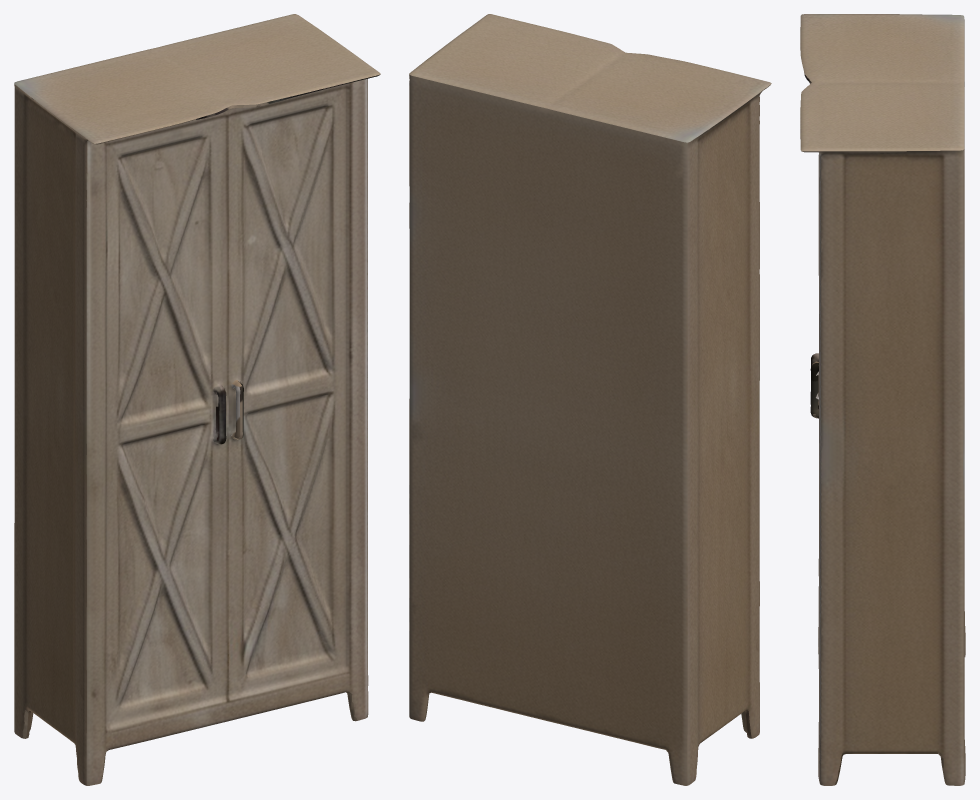
File: wardrobe__wardrobe#3.glb
3 views of the same model, side by side, from view 1: azimuth 30°, elevation 25°; view 2: azimuth 150°, elevation 25°; view 3: azimuth 270°, elevation 25° (orthographic). The views are drawn at different scales.
Parts seen in each view (by area): view 1: tmpmd7zc7rg.ply; view 2: tmpmd7zc7rg.ply; view 3: tmpmd7zc7rg.ply.
Part boxes in pixels (box(x1,y1,x2,y2)): tmpmd7zc7rg.ply: box(14, 14, 380, 785); tmpmd7zc7rg.ply: box(409, 14, 771, 785); tmpmd7zc7rg.ply: box(800, 14, 965, 785).
Bounding box in the file's own units: 0.9174 × 1.99 × 0.4671.
Materials: 1 (1 with a texture image).
